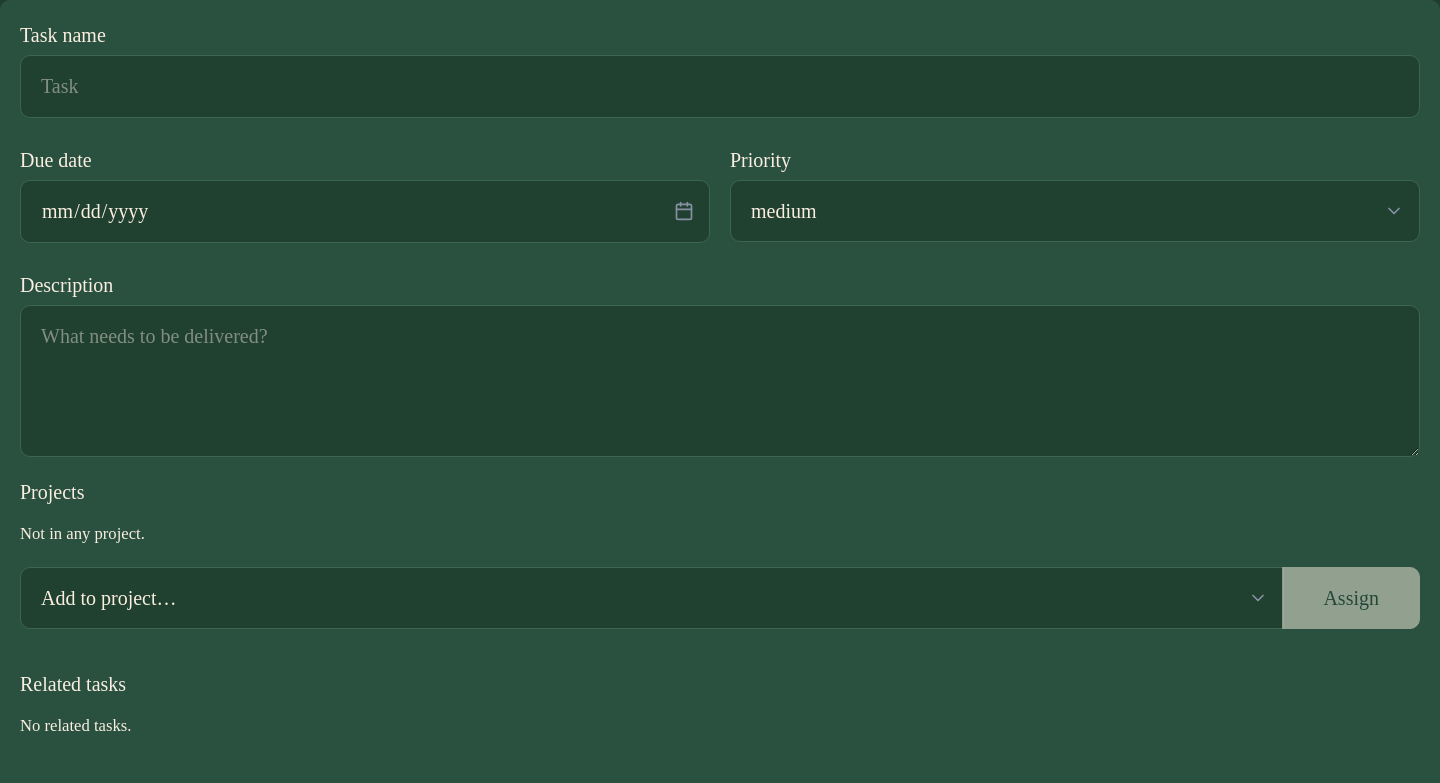
TaskForm checks the due date against its projects' deadlines › blocks assigning a project due before the task, but only once both dates are set
Select "Website" in the 2nd dropdown at (652, 598), box [20,567,1284,629]
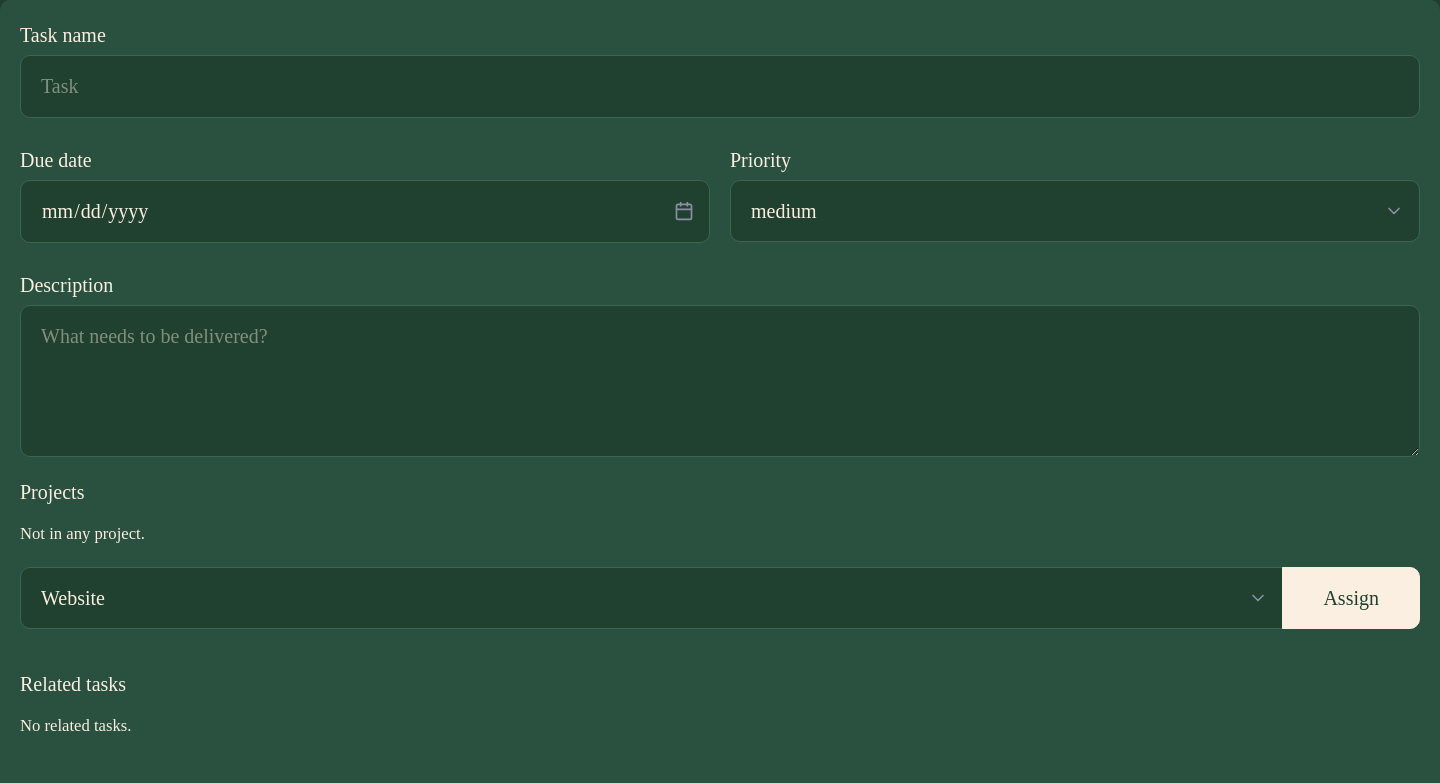
Expected: the button "Assign" is enabled, [1282,567,1420,629]
Type "2026-12-05" into the date field labelled "Due date" at (365, 211), box [20,180,710,242]
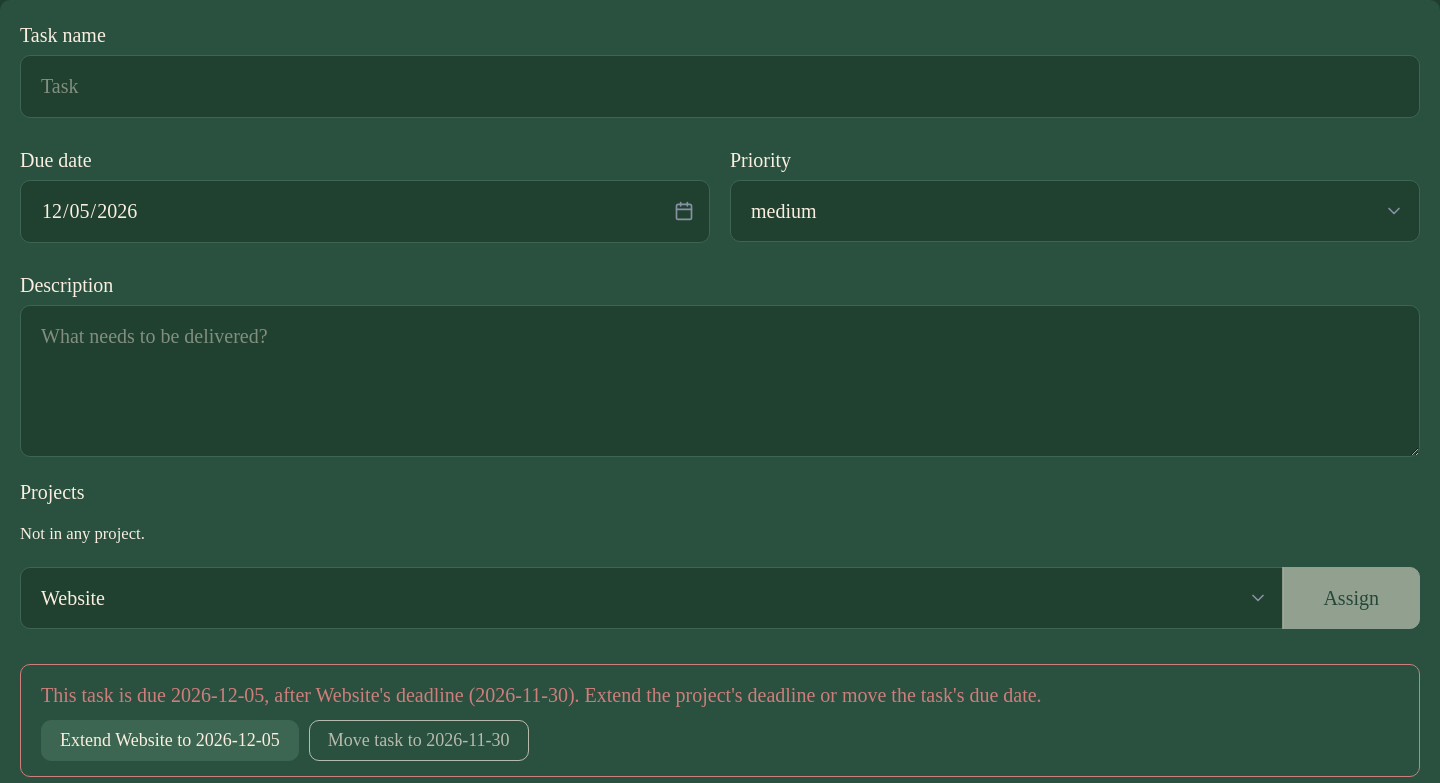
Expected: the message with class "date-error" shows "This task is due 2026-12-05, after Website's deadline (2026-11-30).", [41,684,1042,706]
Expected: the button "Assign" is disabled, [1282,567,1420,629]
Click the button "Move task to 2026-11-30" at (419, 740), box [309,720,528,761]
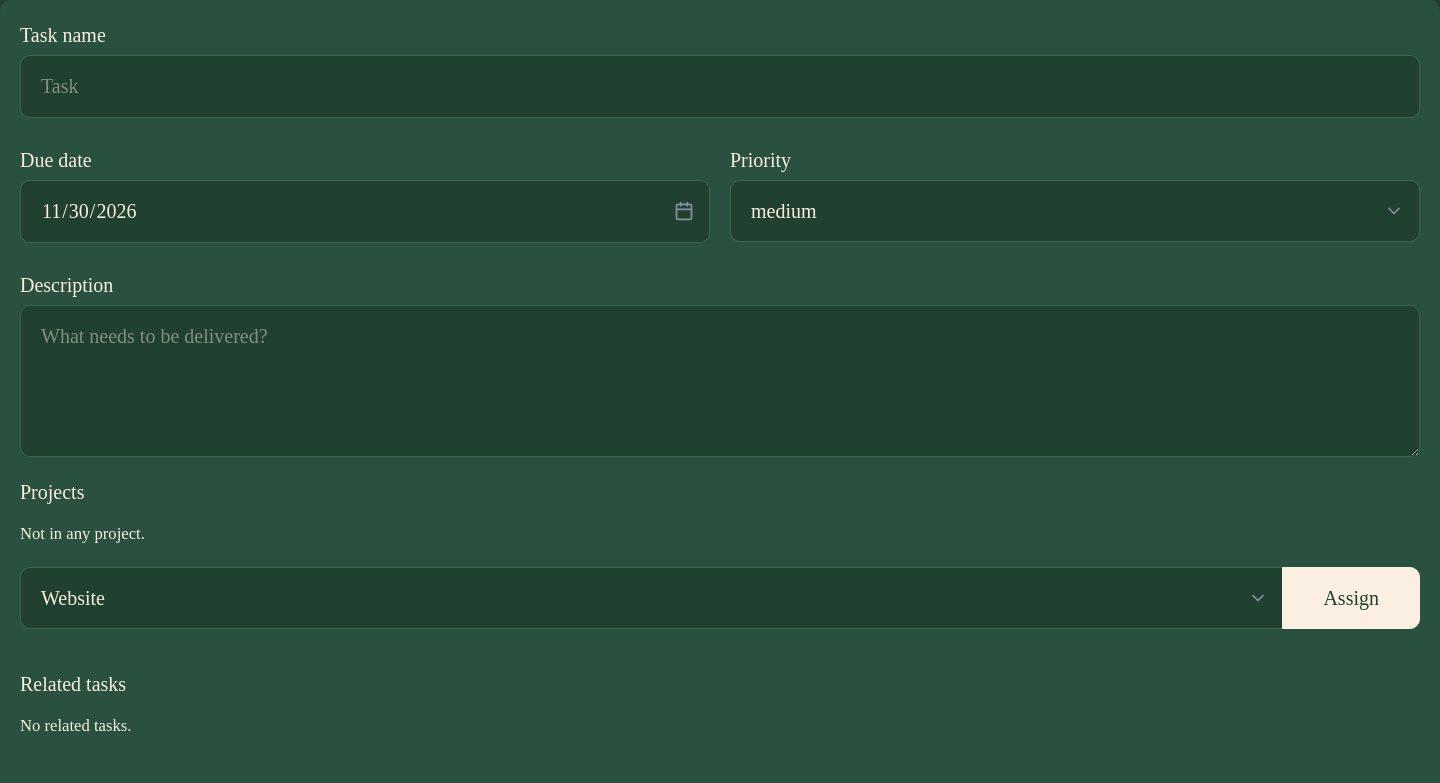
Expected: the date field labelled "Due date" holds "2026-11-30", [20,180,710,242]
Expected: the button "Assign" is enabled, [1282,567,1420,629]
